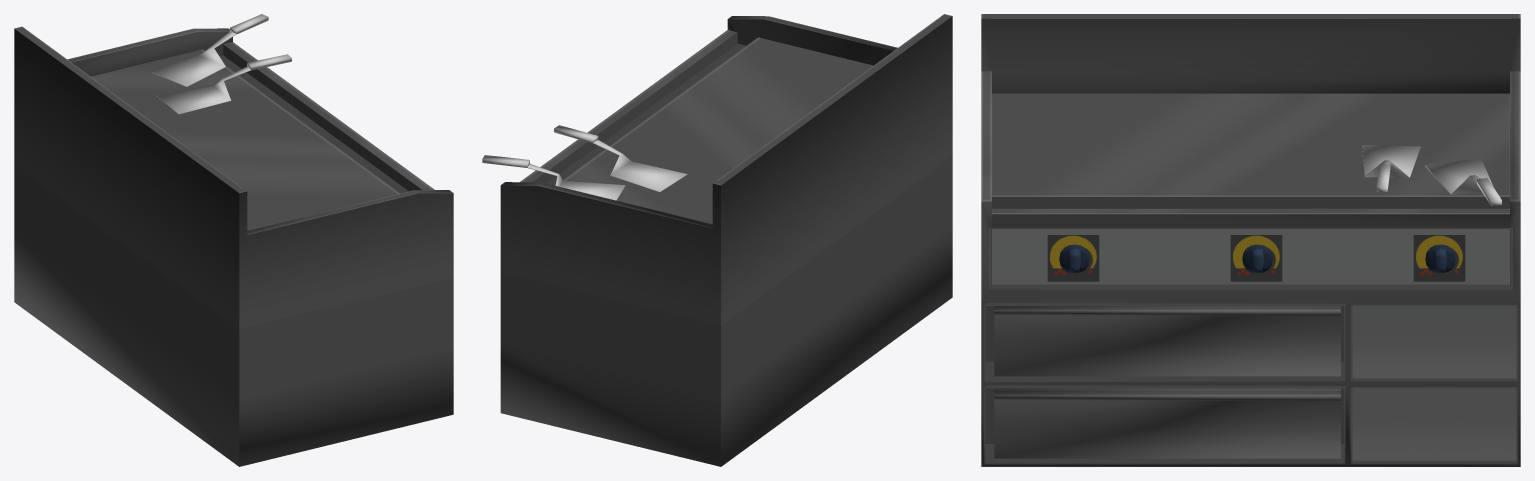
Rendered from 煎台untitled.fbx.
3 views of the same model, side by side, from view 1: azimuth 30°, elevation 25°; view 2: azimuth 150°, elevation 25°; view 3: azimuth 270°, elevation 25° (orthographic). The views are drawn at different scales.
Visible parts, largest first — view 1: 煎台, 刀盤物件.001; view 2: 煎台, 刀盤物件.001; view 3: 煎台, 刀盤物件.001.
Boxes of the visible parts, x1=… form: 煎台: x1=14, y1=26, x2=453, y2=466; 刀盤物件.001: x1=152, y1=14, x2=291, y2=114; 煎台: x1=500, y1=14, x2=952, y2=466; 刀盤物件.001: x1=482, y1=125, x2=687, y2=200; 煎台: x1=981, y1=14, x2=1520, y2=466; 刀盤物件.001: x1=1362, y1=145, x2=1501, y2=205.
Bounding box in the file's own units: 124 × 134 × 200.
